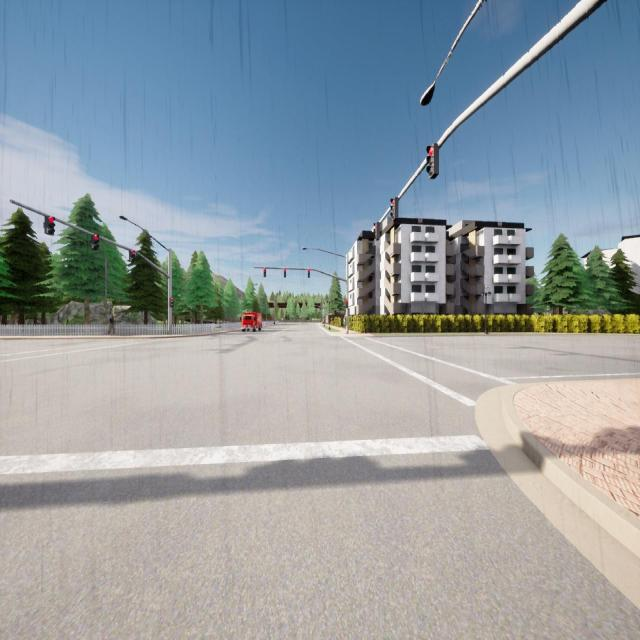Pedestrian: (107, 315, 115, 336)
Vehicle: (240, 312, 262, 332)
traffic_light: (426, 144, 439, 179), (45, 216, 55, 235), (391, 197, 398, 221), (374, 222, 380, 241), (92, 234, 99, 250), (129, 249, 135, 262), (170, 297, 173, 307), (263, 268, 266, 277), (284, 268, 286, 278), (308, 268, 310, 278), (346, 299, 348, 308)
